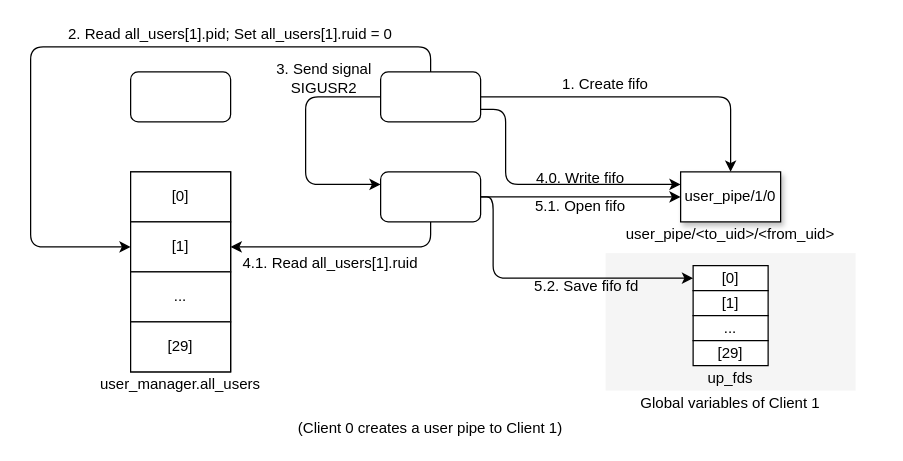
This 903x461 diagram has some shape labels left out. Each missing label, with the centre of its shape:
"Client 0" goes at (x=430, y=96).
"Client 1" goes at (x=430, y=196).
"Server" goes at (x=180, y=96).
